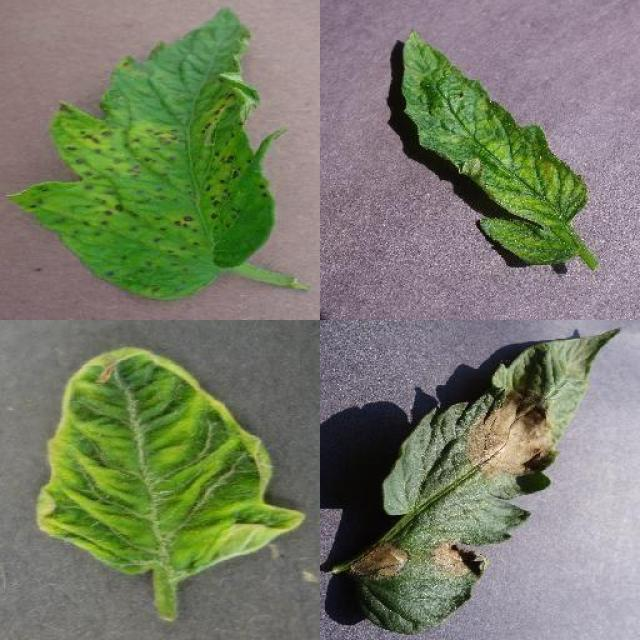Late Blight: (352, 325, 626, 640)
Septoria: (10, 7, 274, 302)
